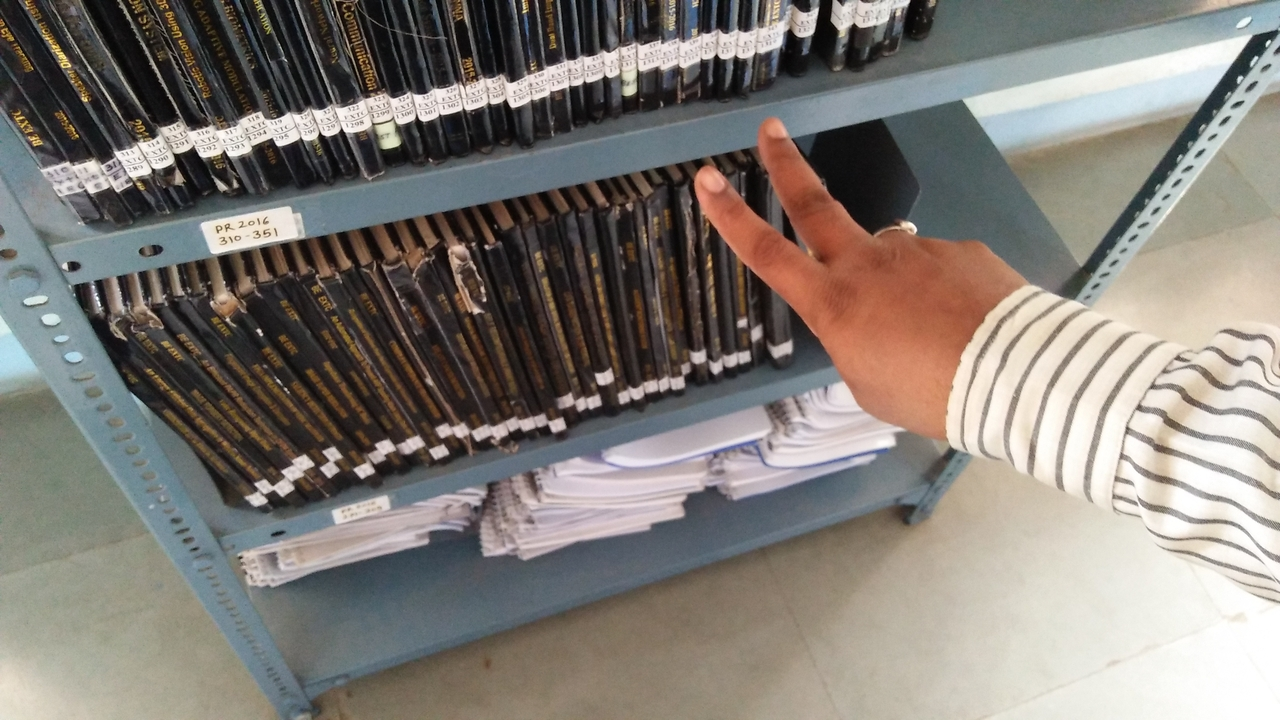fingertip: (684, 152, 746, 210), (746, 98, 806, 148)
